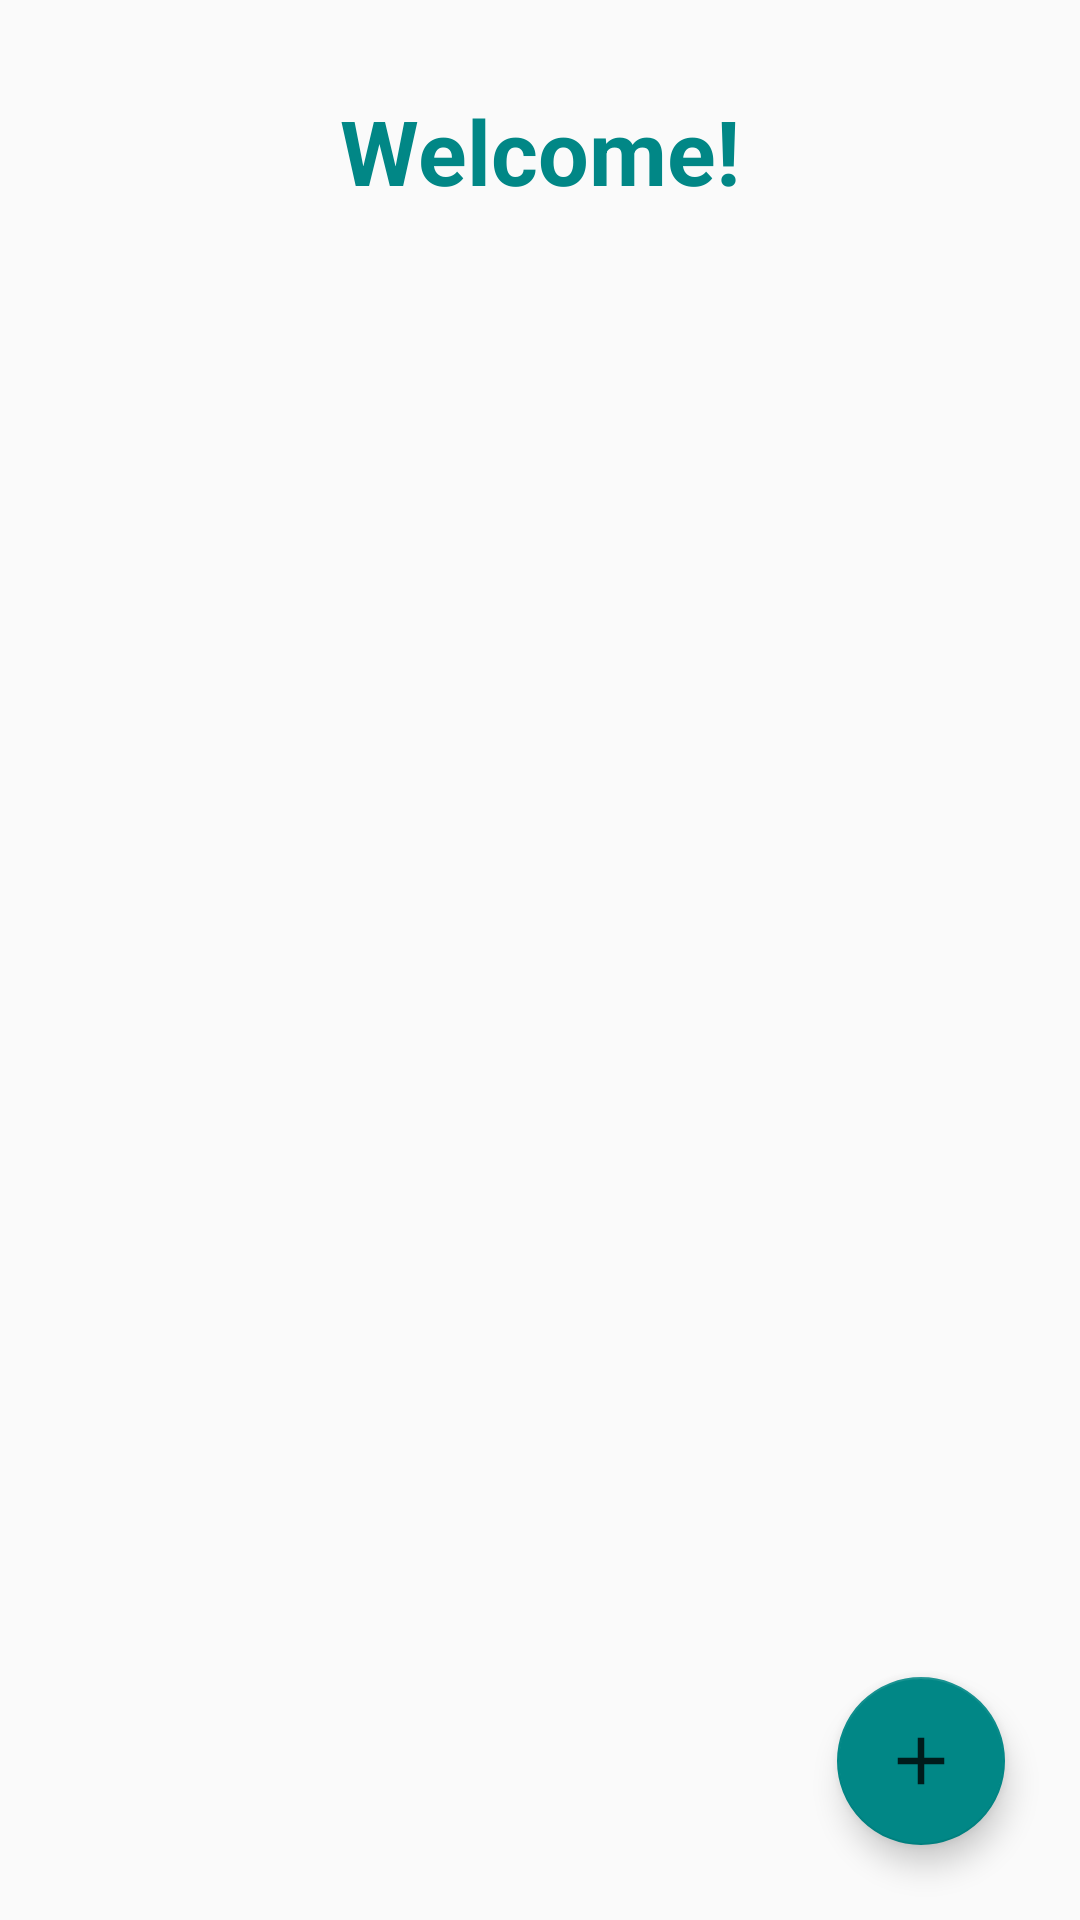

Icons on this 1080×1920 Android screen, each with its box as (x1, y1, x2, y2):
Add: (837, 1677, 1005, 1845)
